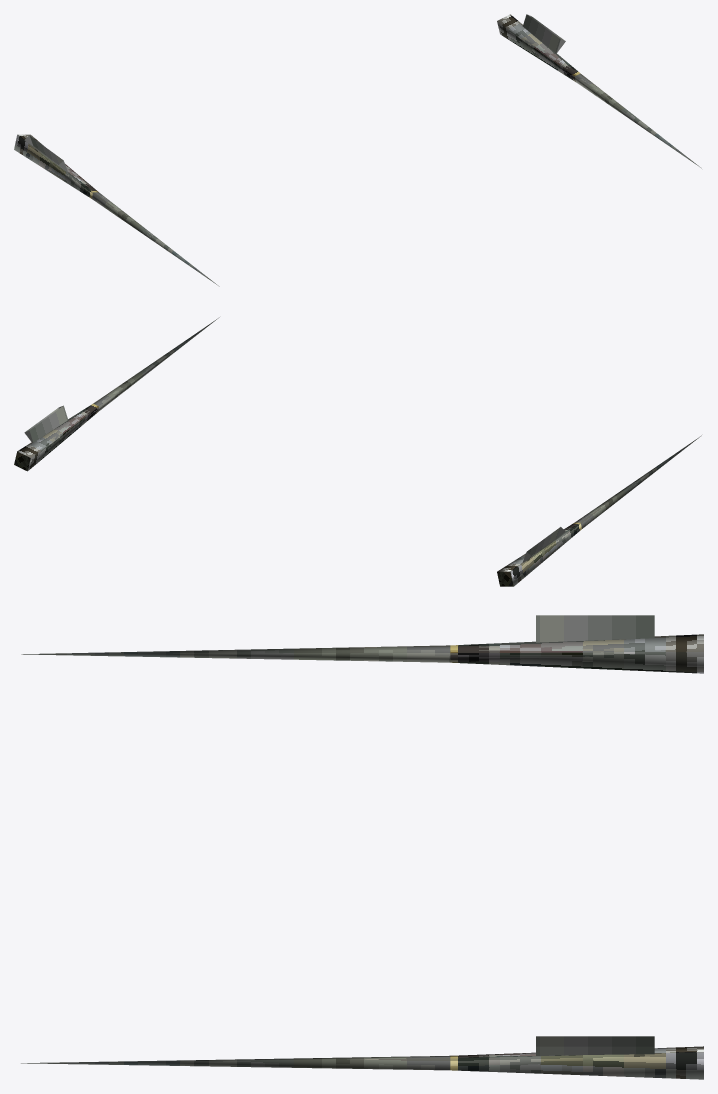
File: hutt_fighter_medium_weapon1_s01_l2.fbx
3 renders of one model, top to bottom at view 1: azimuth 30°, elevation 25°; view 2: azimuth 150°, elevation 25°; view 3: azimuth 270°, elevation 25°, orthographic. The views are drawn at different scales.
Parts seen in each view (by area): view 1: mesh_node; view 2: mesh_node; view 3: mesh_node.
Part boxes in pixels (<box>): mesh_node: <box>14,14,701,286</box>; mesh_node: <box>14,317,701,586</box>; mesh_node: <box>21,615,703,1079</box>.
Bounding box in the file's own units: 13.15 × 0.6845 × 8.92.
Materials: 1 (1 with a texture image).
